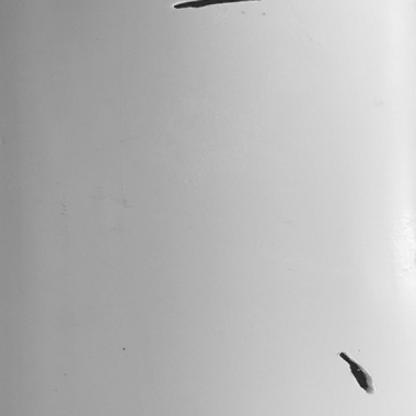fengxi: (171, 1, 255, 12)
kongdong: (335, 351, 382, 395)
